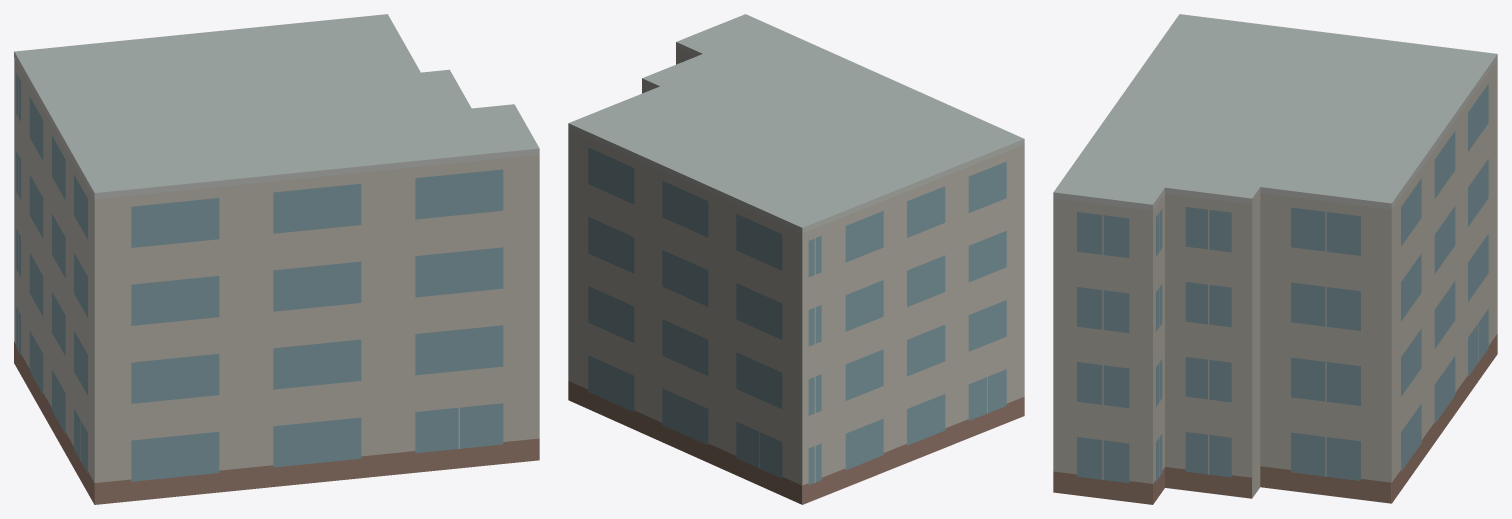
The model's file is survey-upis-32772130.glb.
3 renders of one model, left to right at view 1: azimuth 30°, elevation 25°; view 2: azimuth 150°, elevation 25°; view 3: azimuth 270°, elevation 25°, orthographic. The views are drawn at different scales.
Parts seen in each view (by area): view 1: survey-upis-32772130.tmp; view 2: survey-upis-32772130.tmp; view 3: survey-upis-32772130.tmp.
Boxes of the visible parts, x1,y1,x2,y2 form: survey-upis-32772130.tmp: [14, 14, 539, 504]; survey-upis-32772130.tmp: [568, 14, 1024, 504]; survey-upis-32772130.tmp: [1053, 14, 1497, 504].
Size of the model in its own units: 16.64 by 12.2 by 16.38.
